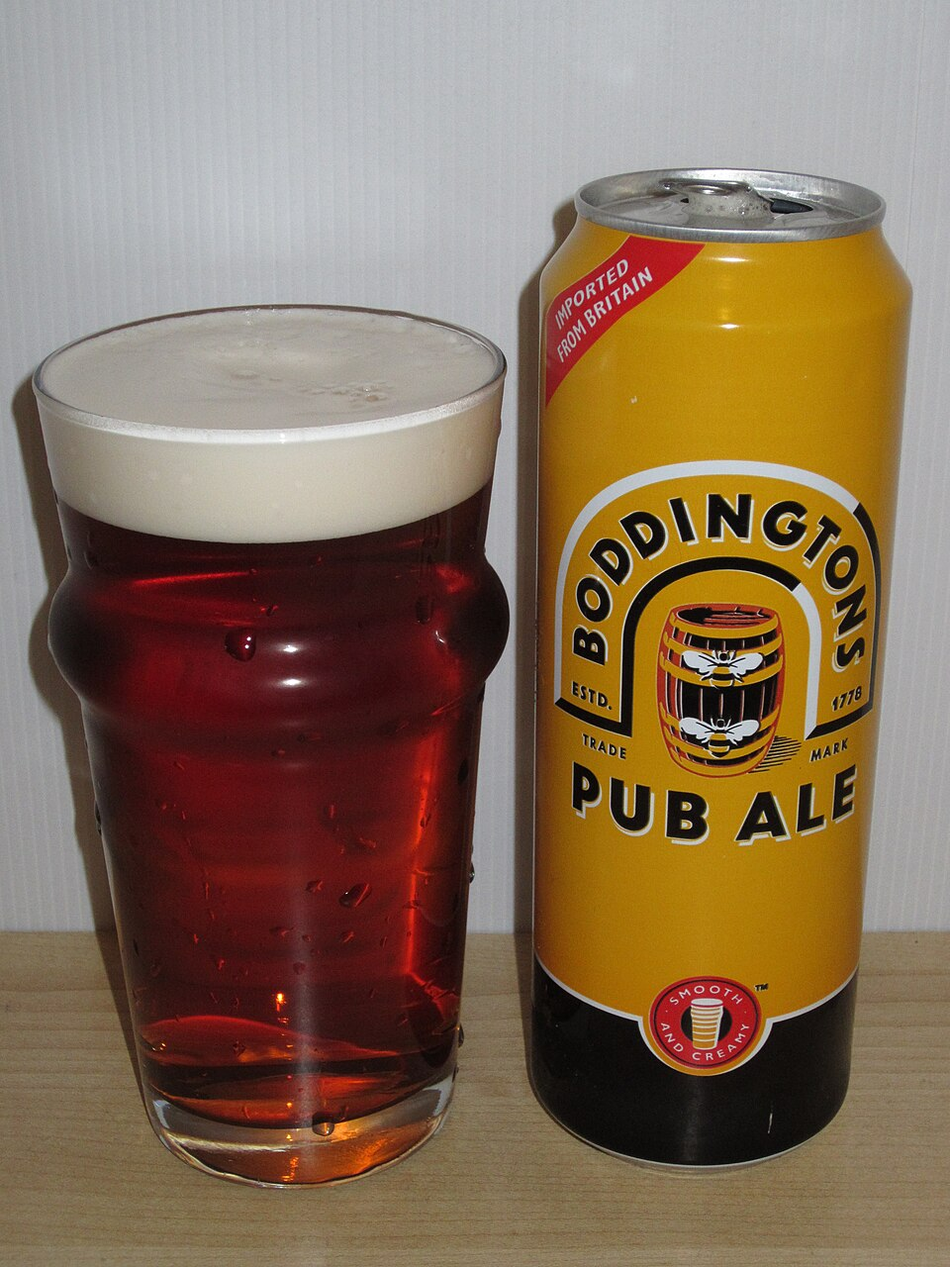beer-can: (520, 163, 908, 1176)
